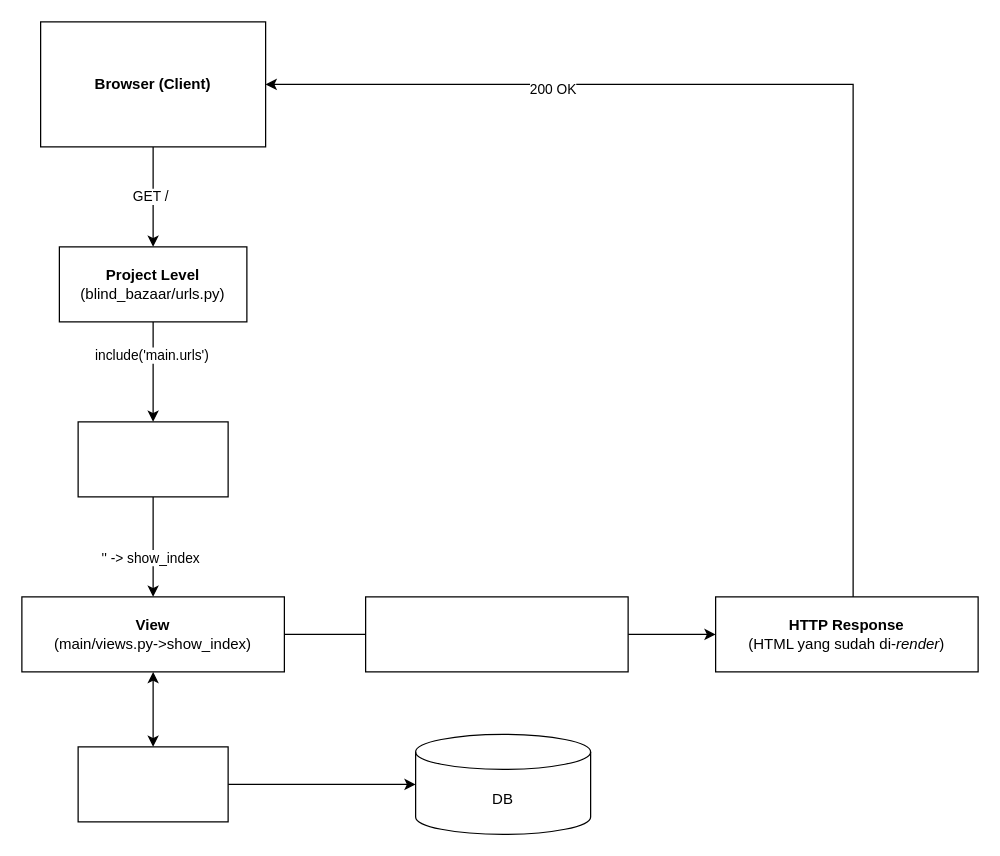
Image size: 1000x856. Some labels were removed from this diagram. Here are the shapes that lost their labels. From the top down, the box of each, then its label:
(77, 421, 228, 497): App Level (main/urls.py)
(364, 596, 628, 672): Template (main/templates/main.html)
(77, 746, 228, 822): Model/ORM (main/modeles.py)
